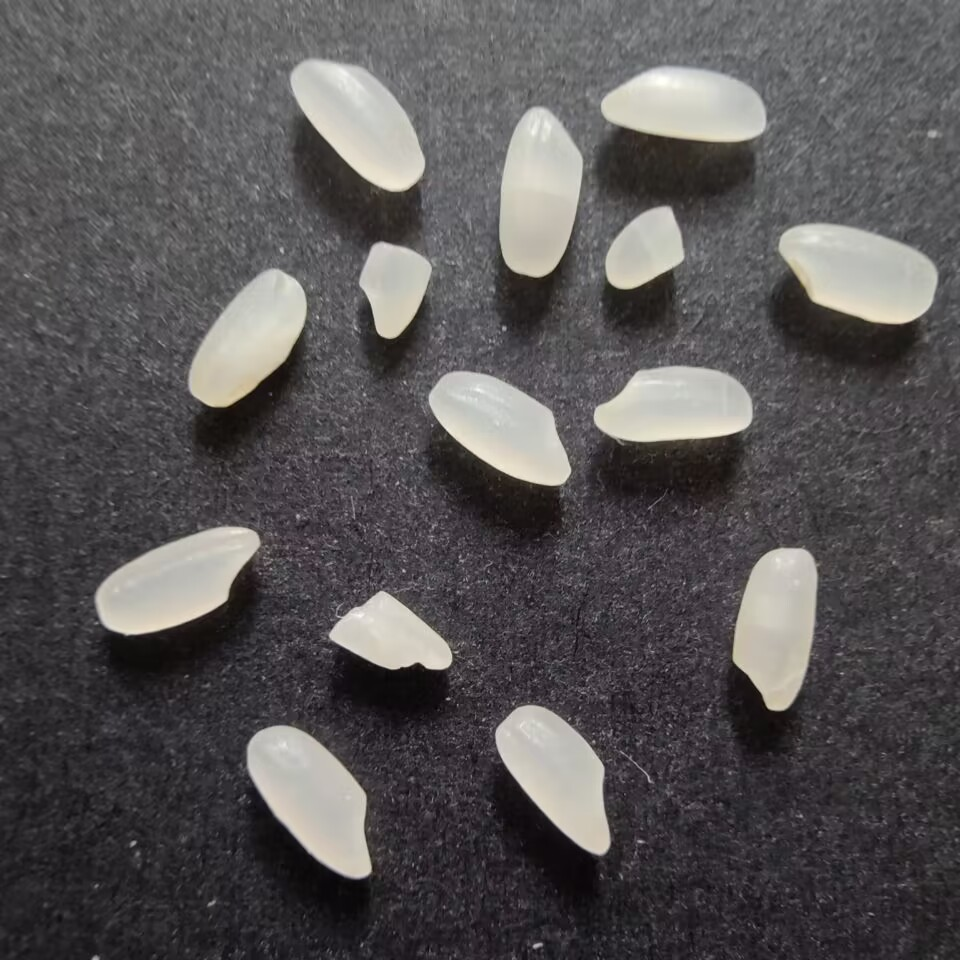broken: (327, 584, 454, 677), (354, 237, 433, 345), (602, 199, 689, 295)
rice: (242, 724, 376, 881), (281, 55, 430, 196), (95, 518, 261, 642), (490, 700, 617, 859), (185, 262, 313, 410), (422, 369, 575, 491), (769, 220, 943, 327), (728, 543, 824, 715), (493, 103, 585, 278), (588, 360, 758, 447), (595, 60, 771, 144)
